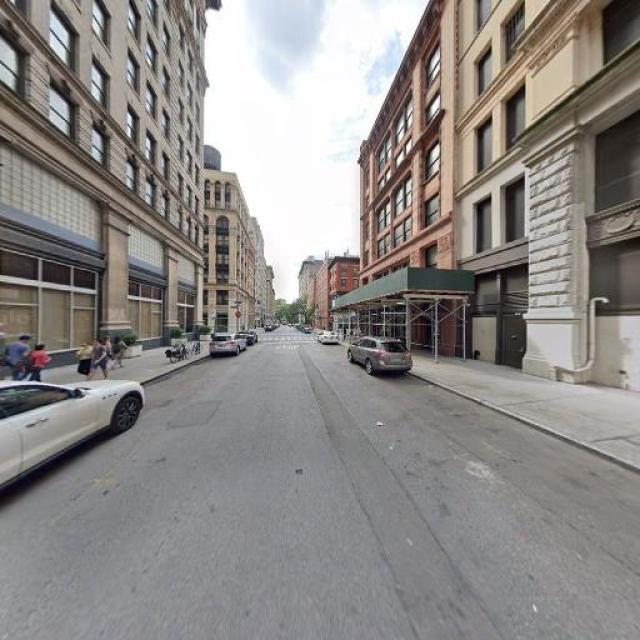Building: (1, 1, 199, 379), (455, 1, 640, 395), (363, 1, 452, 354)
